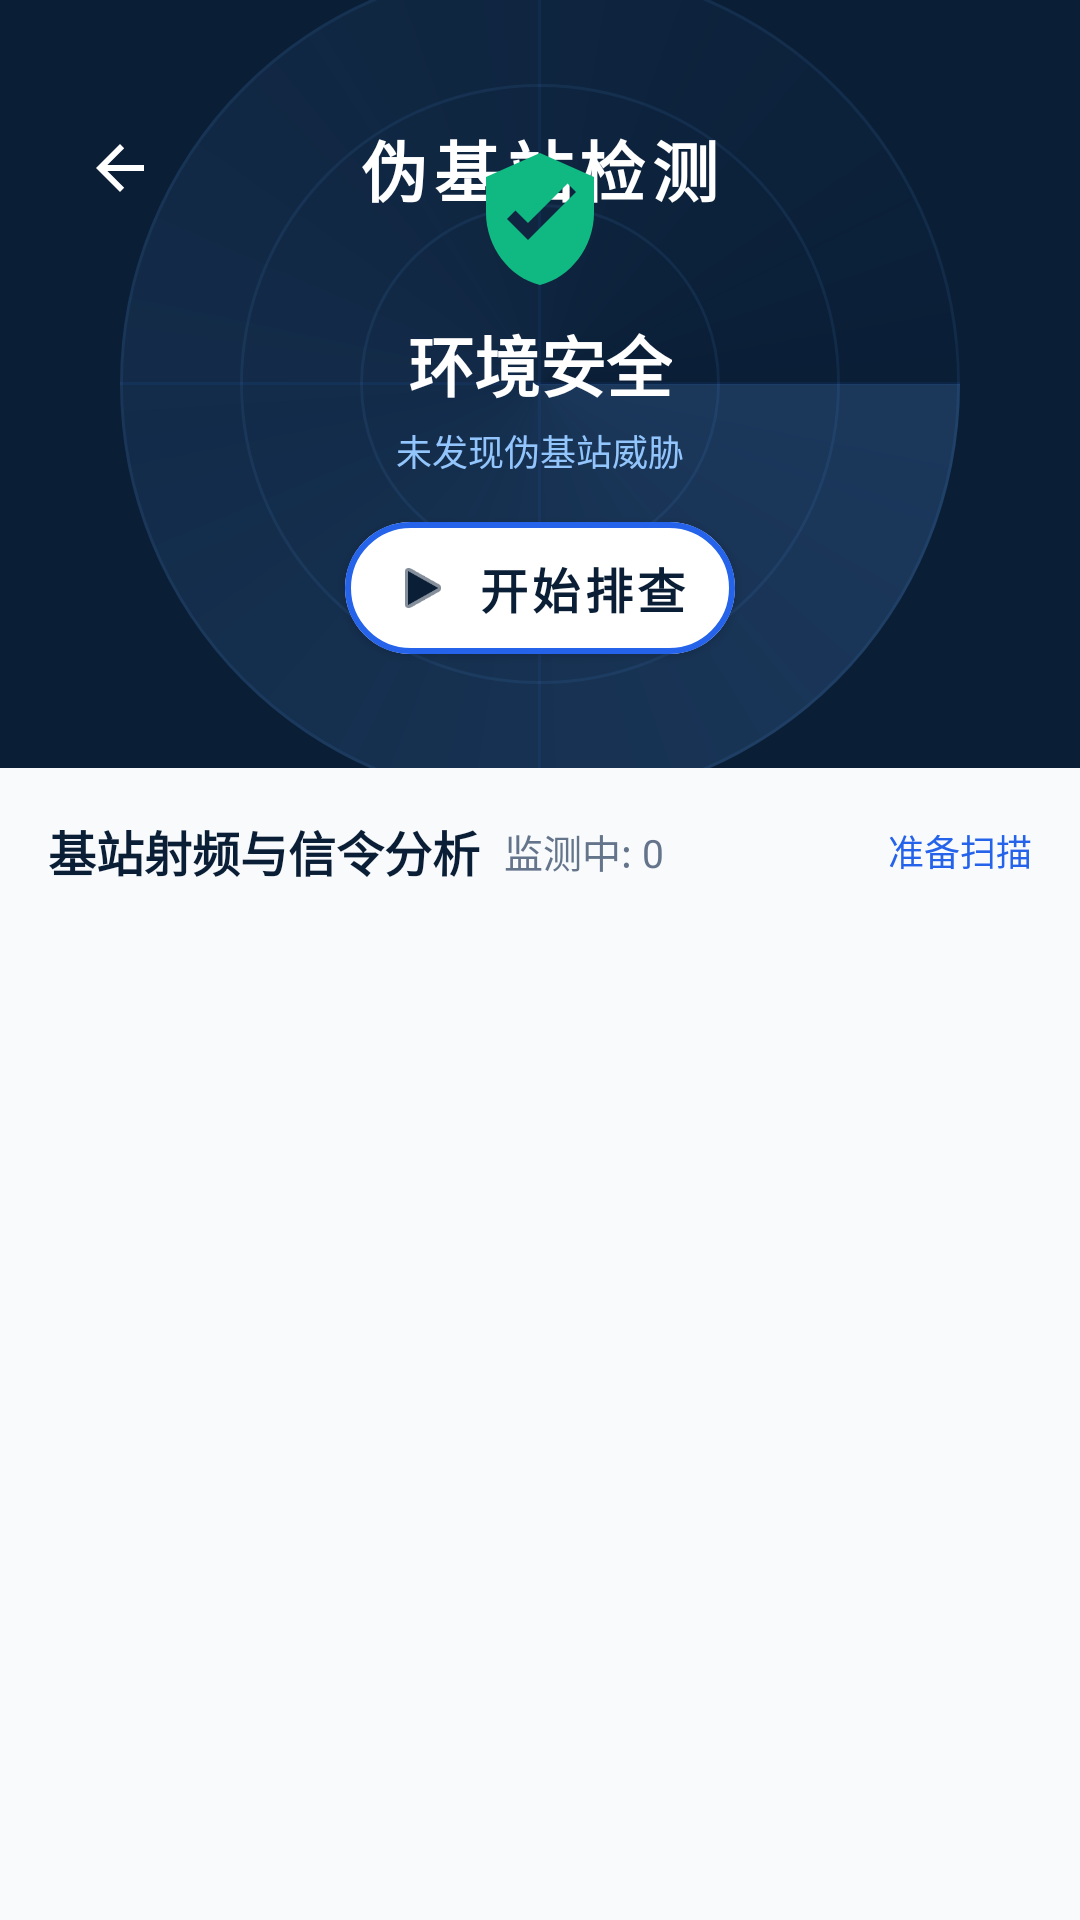

Named icons in this screenshot (1080×1920) and their bounding boxes, (x1,y1,x2,y2):
shield check: (468,147,612,285)
